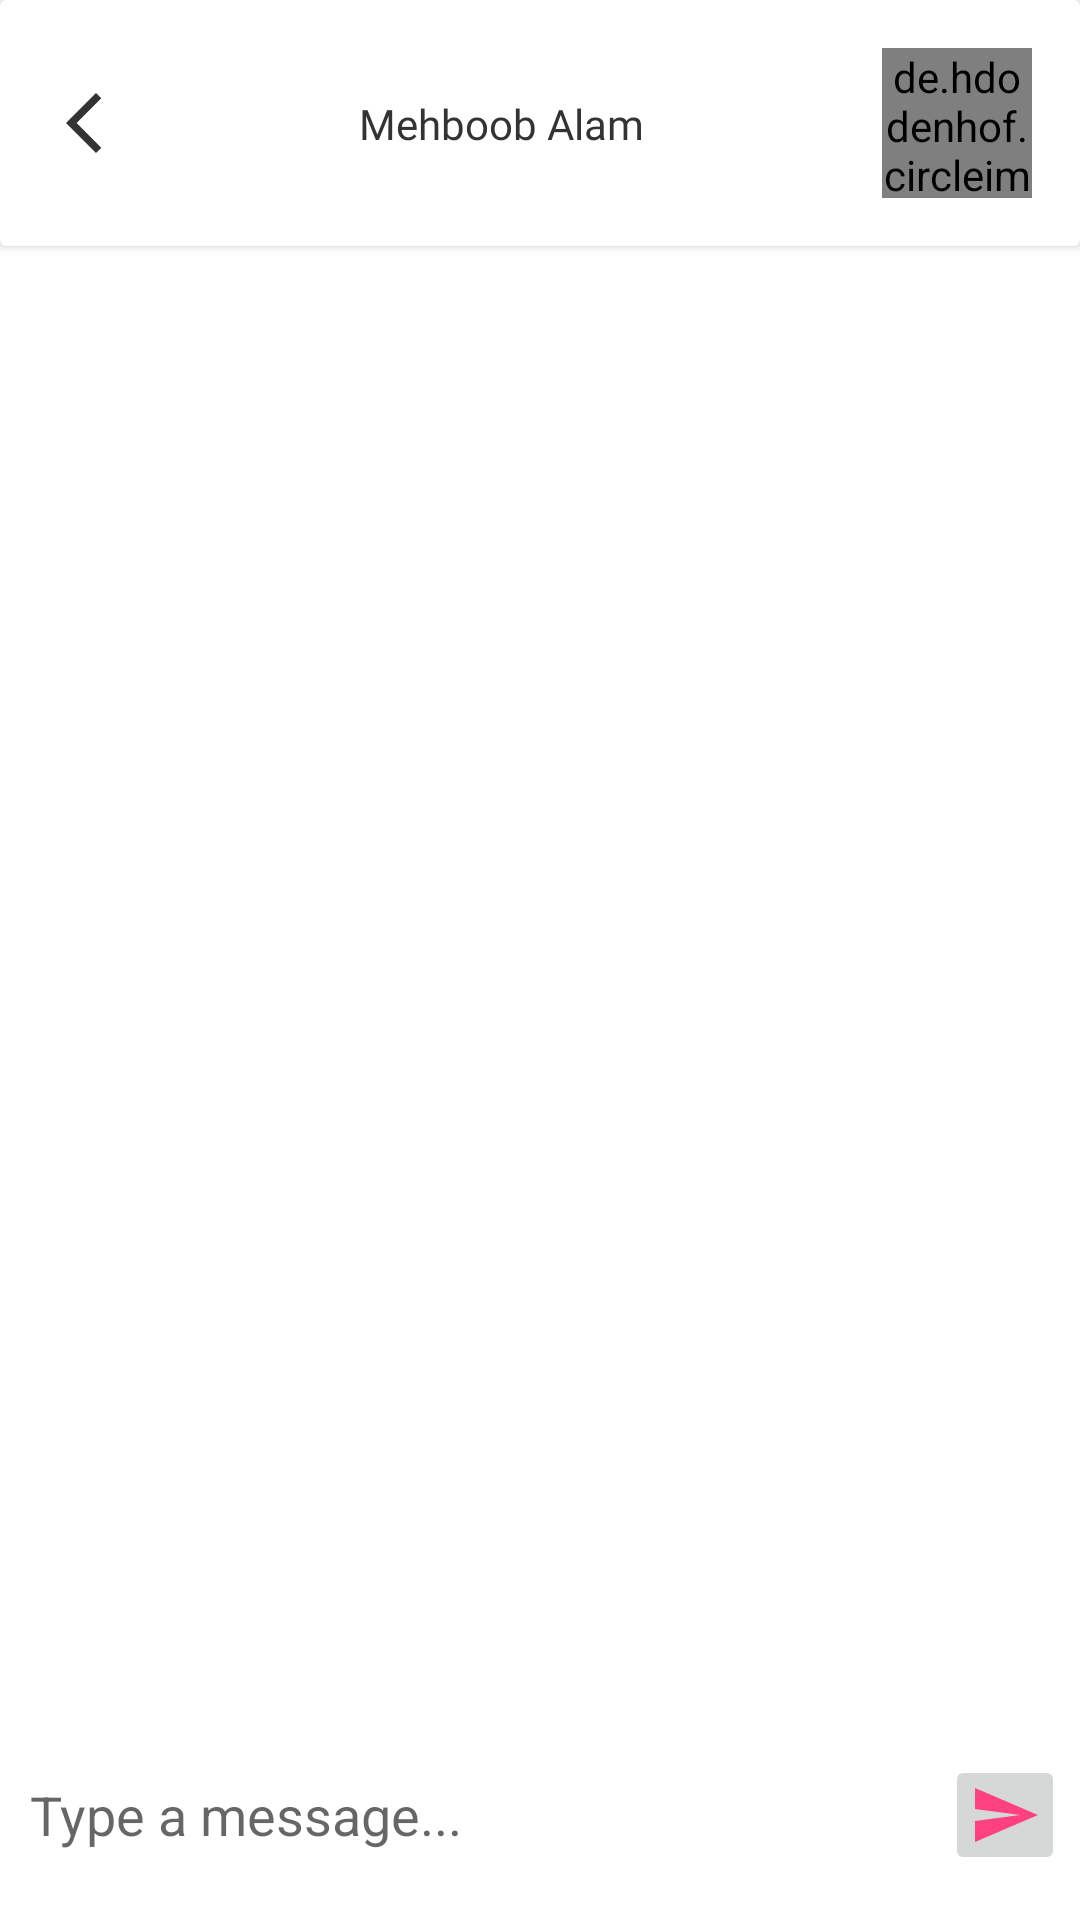

Icons on this 1080px x 1920px Android screen, each with the point to tap as point (x, y):
arrow back: point (83, 123)
send: point (1005, 1815)
